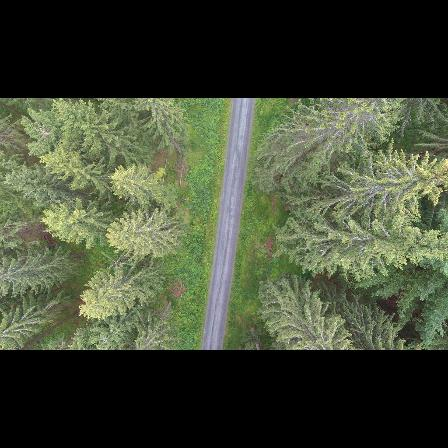Sick: (24, 112, 57, 149)
